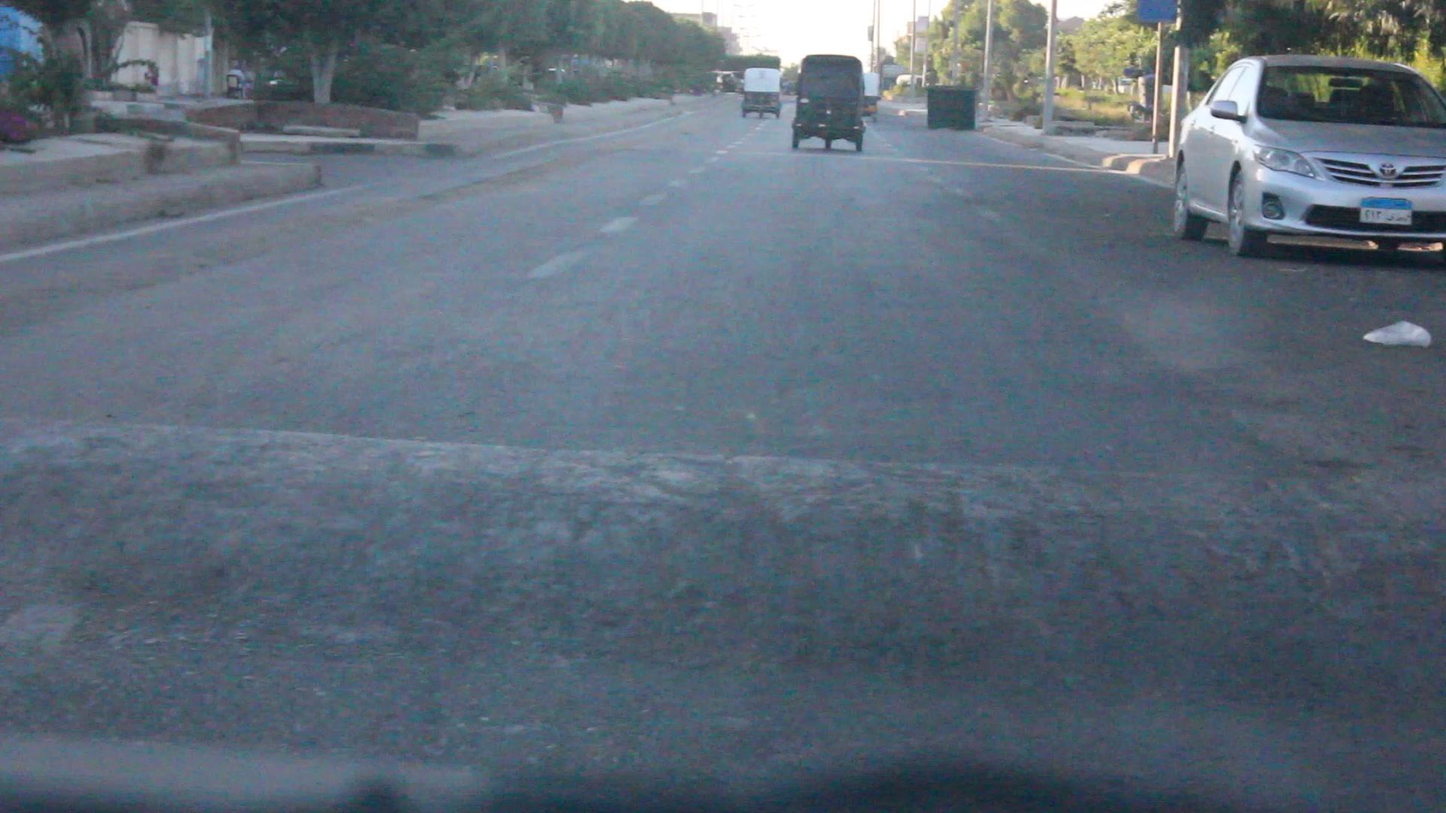Bump: (11, 413, 1445, 731)
